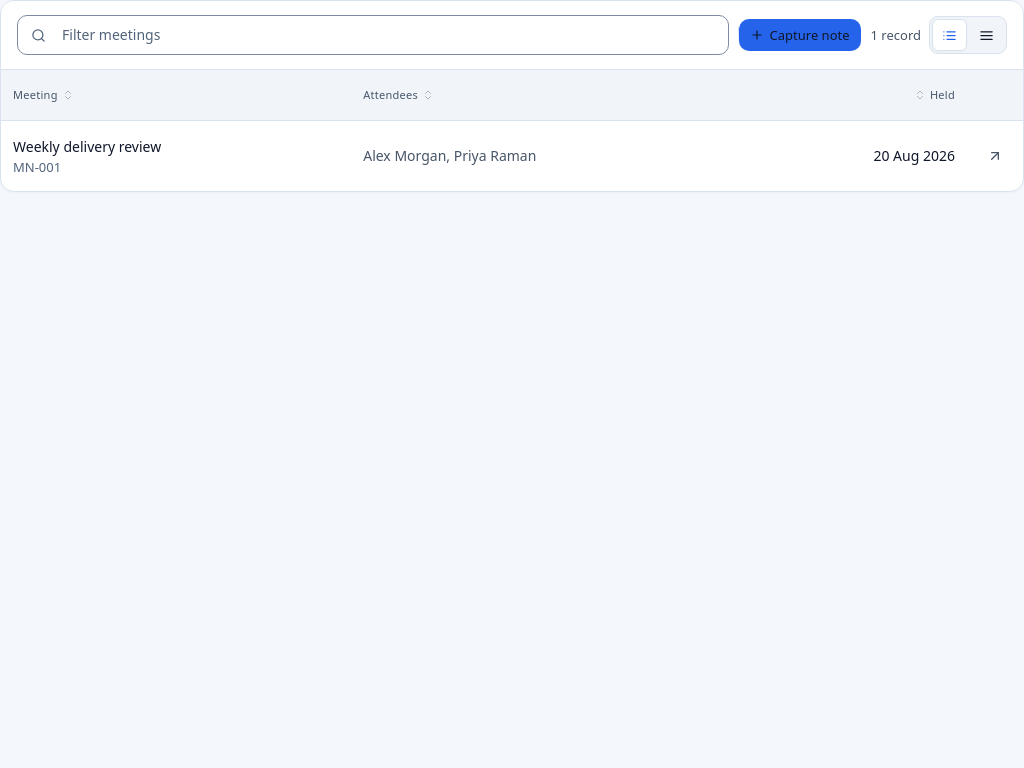
Test: meeting notes › dismissing a proposal removes it without creating anything
Click the text "Weekly delivery review" at (87, 146), box top-left (13, 137), bottom-right (161, 156)
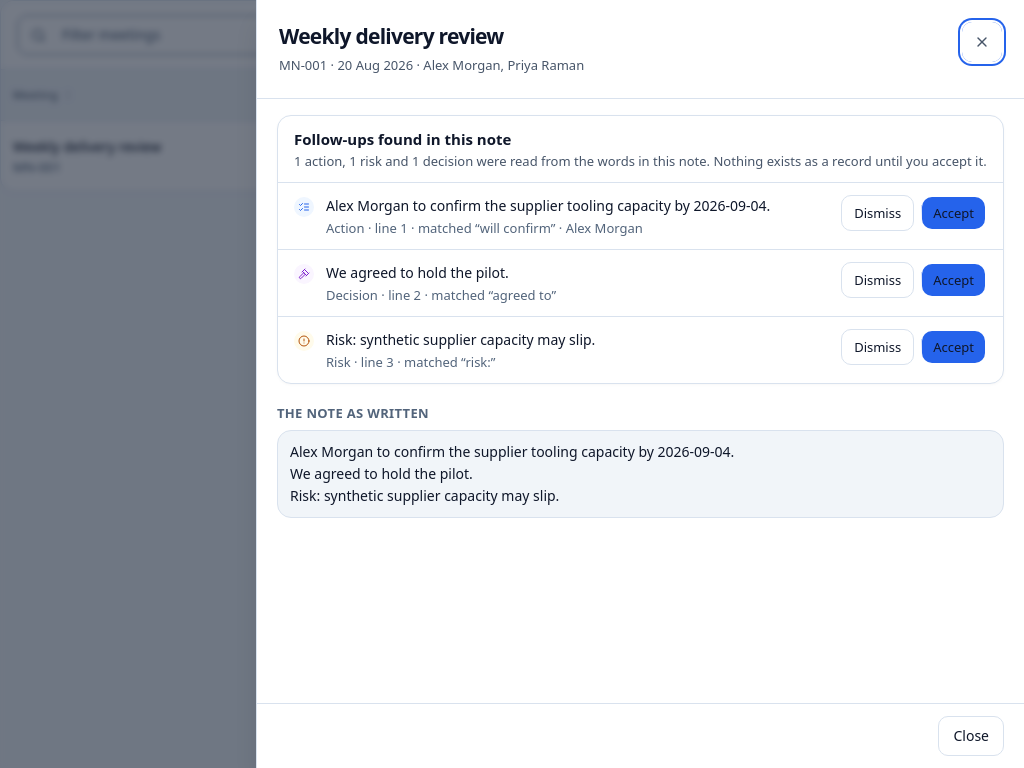
expect the heading "The note as written" is shown: met, box top-left (277, 404), bottom-right (429, 422)
Click the 1st button named "Dismiss" at (878, 213), box top-left (841, 195), bottom-right (914, 231)
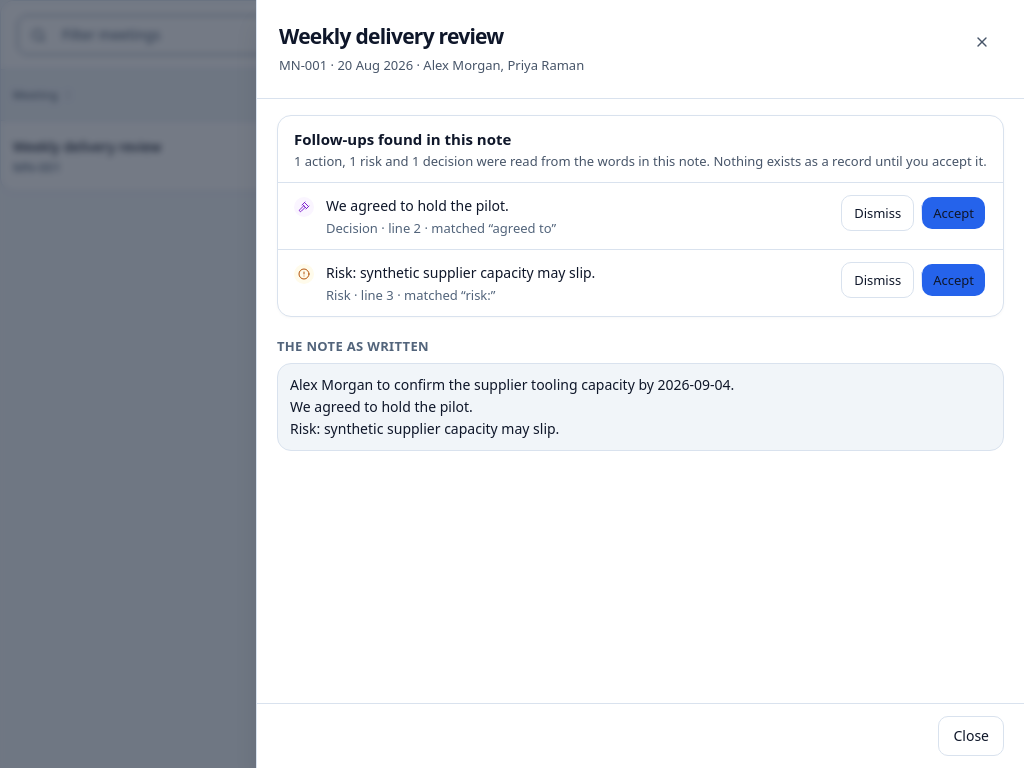
expect the text "matched .will confirm." is gone: met
